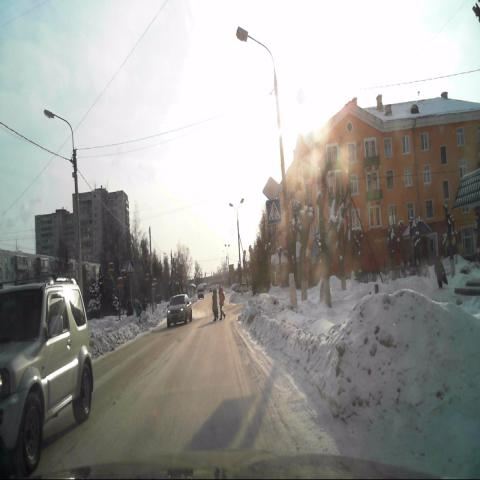2_1: (262, 176, 281, 203)
